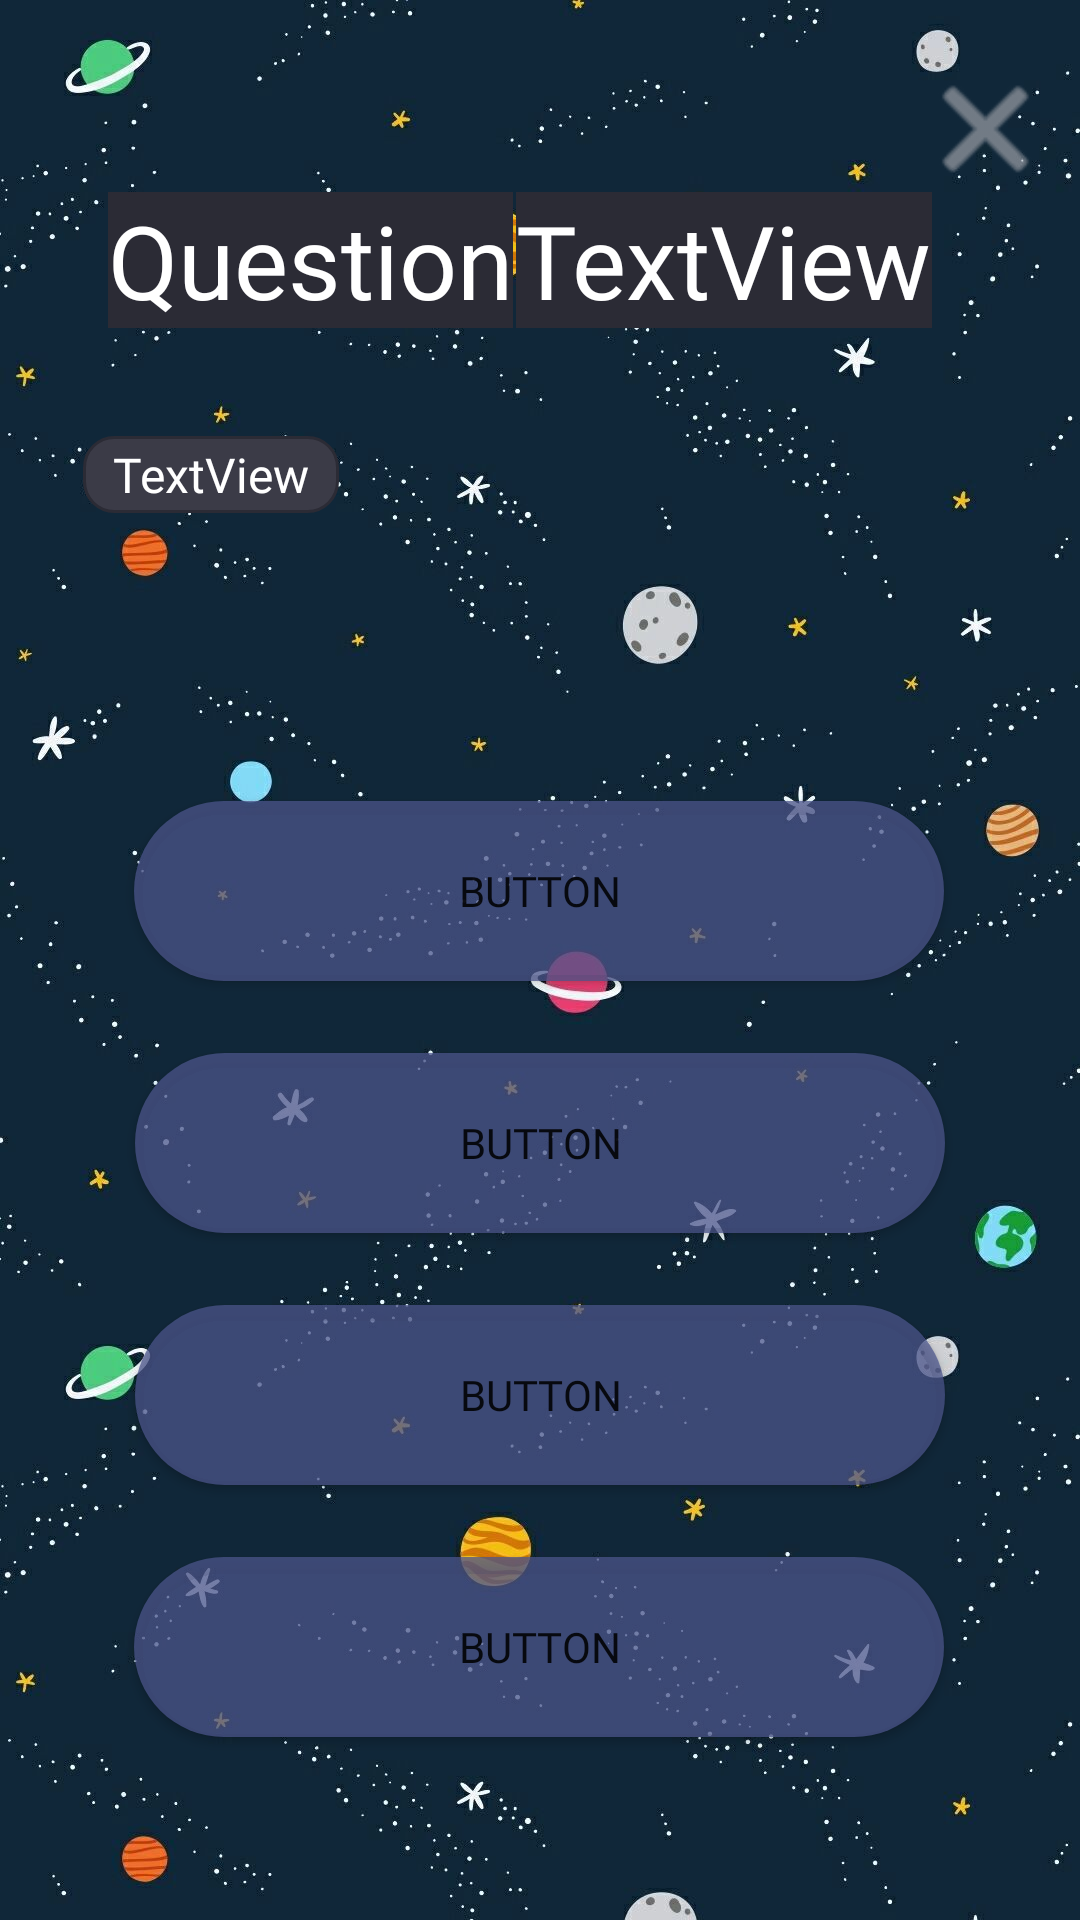

Icon bounding boxes for this 1080w x 1920h phone screenshot, format (x1, y1, x2, y2):
close clear cancel: (920, 69, 1056, 190)
